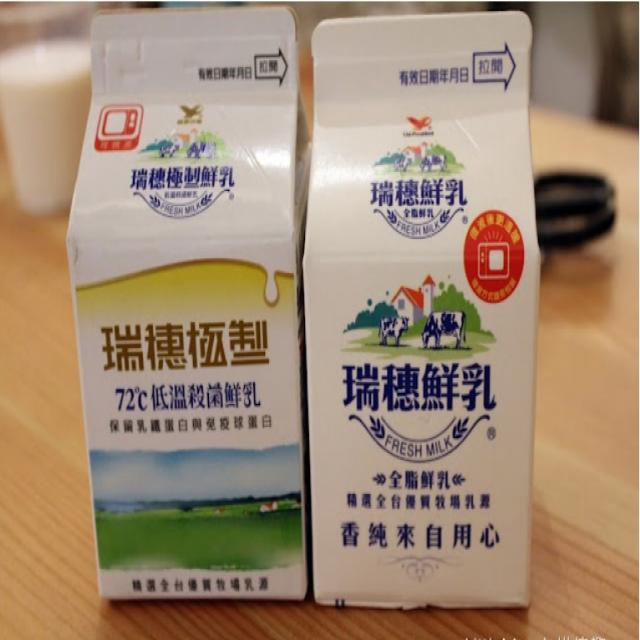non_white_jug: (59, 13, 314, 631), (300, 12, 542, 618)
